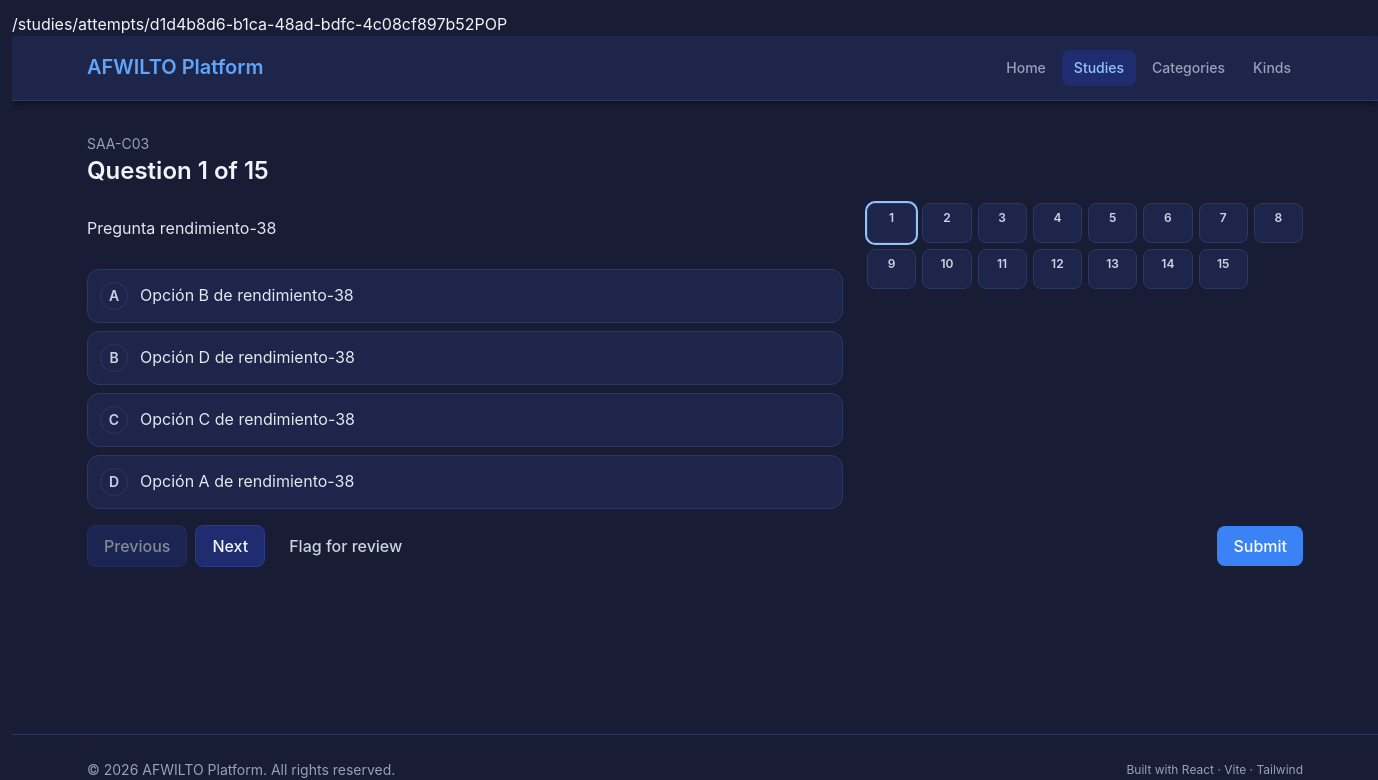
Scenario: RunnerPage: answering and the navigator (S09-6) › a failed save keeps the local choice and shows a retry toast; "Retry" sends it again
Expected: the heading "Question 1 of 15" is shown, [87, 154, 269, 187]
Click the radio button labelled "C Opción C de rendimiento-38". click: (465, 420)
box: [87, 393, 843, 447]
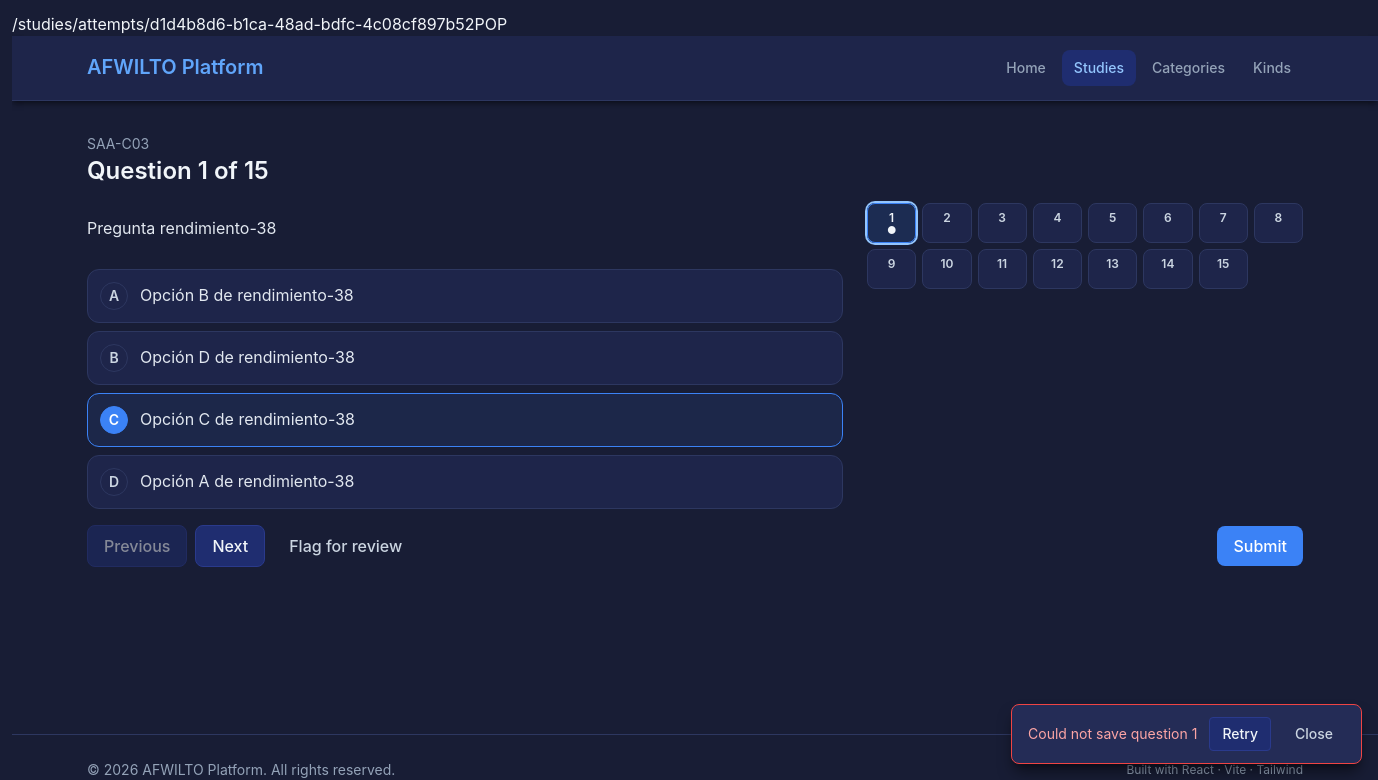
Result: the message shows "Could not save question 1" at [1028, 725, 1197, 742]
Click the button "Retry". click: (1240, 734)
box: [1209, 717, 1271, 751]
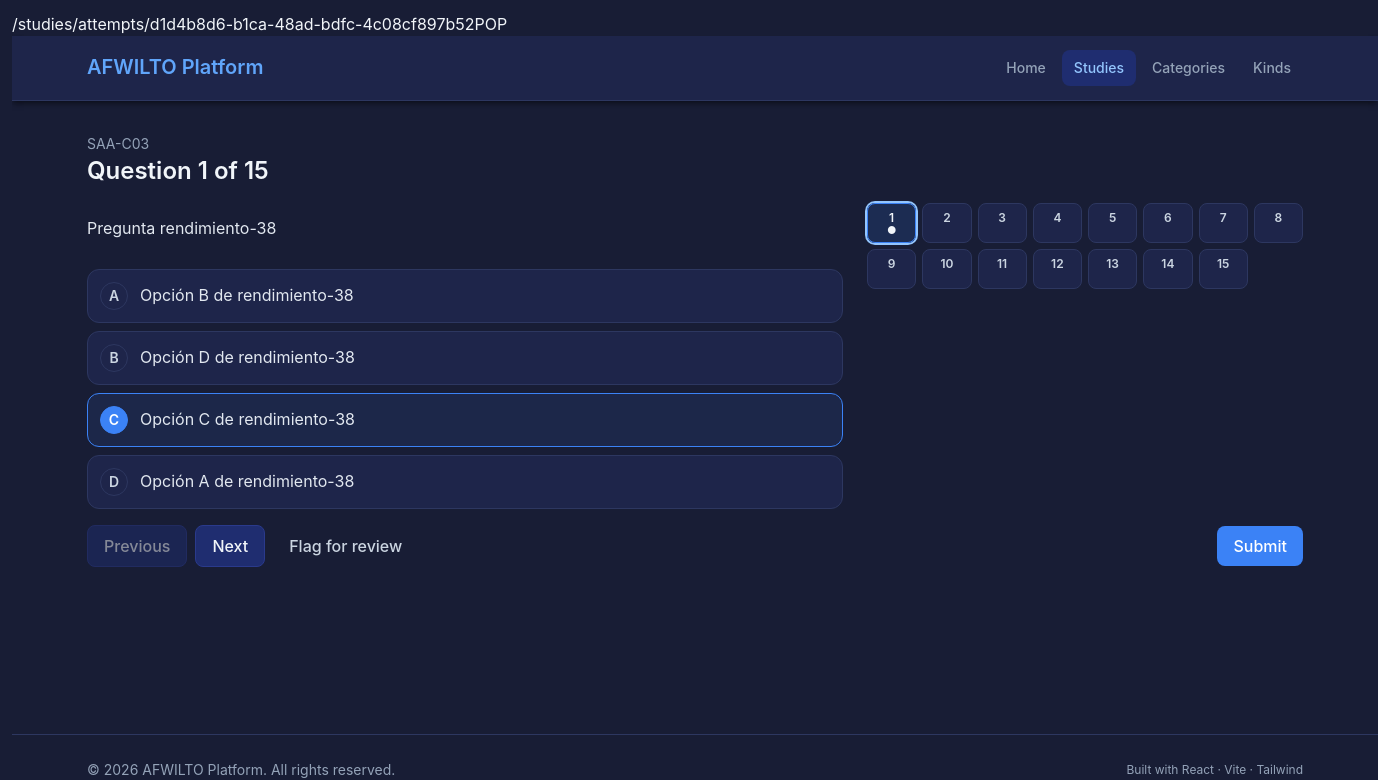
Result: the message "Could not save question 1 Retry Close" is gone
